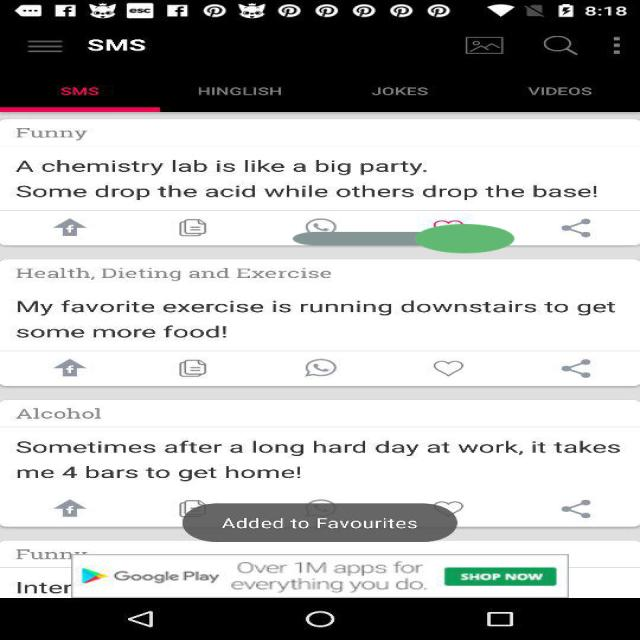social proof: (293, 206, 514, 271)
